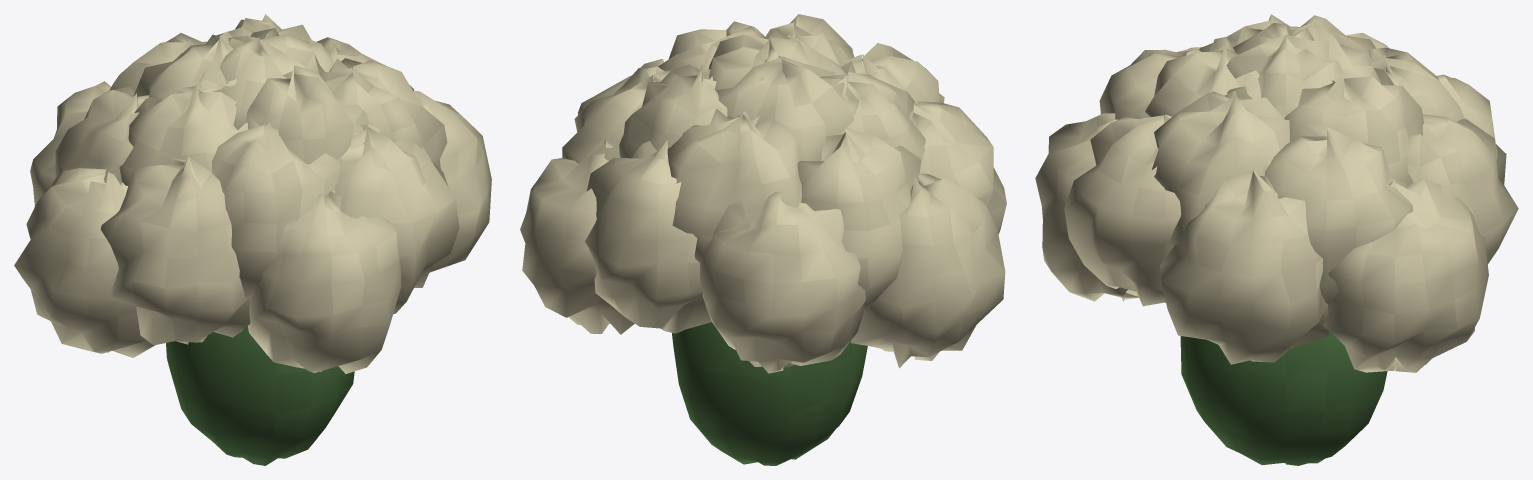
File: Cauliflower.glb
3 views of the same model, side by side, from view 1: azimuth 30°, elevation 25°; view 2: azimuth 150°, elevation 25°; view 3: azimuth 270°, elevation 25° (orthographic). The views are drawn at different scales.
Parts seen in each view (by area): view 1: Cauliflower; view 2: Cauliflower; view 3: Cauliflower.
Boxes of the visible parts, left/top/right/bottom form: Cauliflower: left=14, top=14, right=491, bottom=465; Cauliflower: left=520, top=14, right=1006, bottom=465; Cauliflower: left=1035, top=14, right=1518, bottom=465.
Size of what is drawn, in the model's own units: 0.0992 by 0.0928 by 0.0942.
